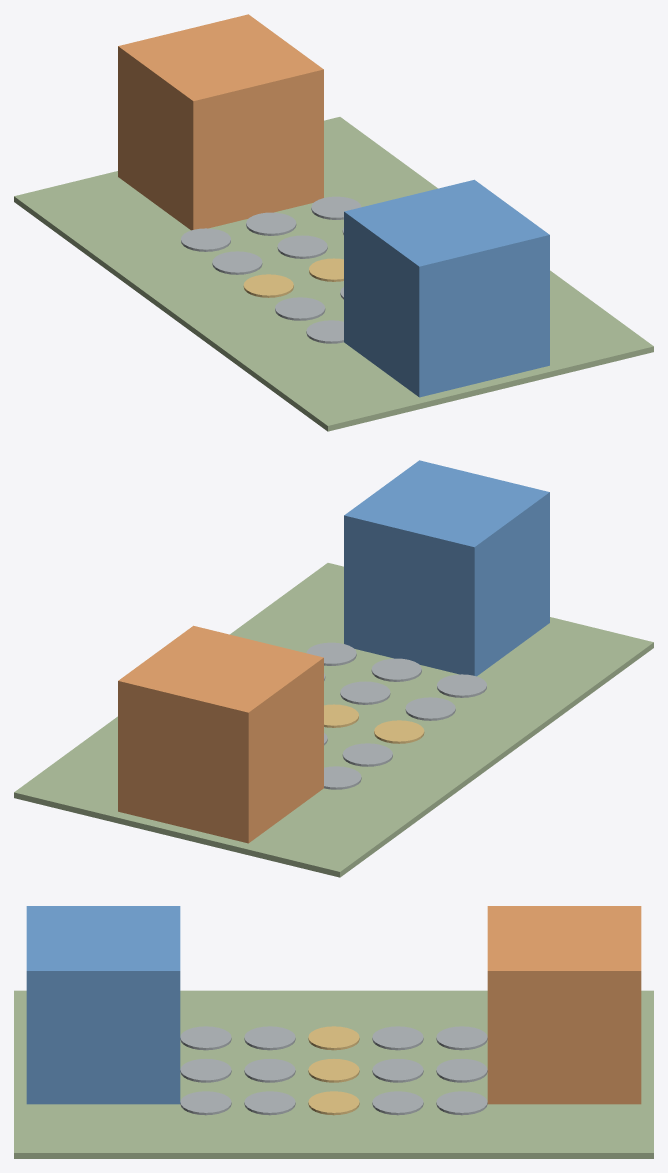
Rendered from field-blockout.glb.
3 views of the same model, one above another, from view 1: azimuth 30°, elevation 25°; view 2: azimuth 150°, elevation 25°; view 3: azimuth 270°, elevation 25° (orthographic).
Parts seen in each view (by area): view 1: field-base, castle-footprint-1, castle-footprint-2, lane-1-step-3, lane-1-step-2, lane-1-step-5, lane-1-step-4, lane-2-step-4, lane-2-step-5, lane-3-step-5, lane-1-step-1, lane-2-step-3; view 2: field-base, castle-footprint-2, castle-footprint-1, lane-1-step-3, lane-1-step-1, lane-1-step-4, lane-1-step-2, lane-2-step-1, lane-2-step-2, lane-3-step-1, lane-1-step-5, lane-2-step-3; view 3: field-base, castle-footprint-1, castle-footprint-2, lane-1-step-1, lane-1-step-2, lane-1-step-3, lane-1-step-4, lane-1-step-5, lane-3-step-1, lane-3-step-2, lane-3-step-3, lane-3-step-4 (+6 smaller).
Part boxes in pixels (x1,y1,x2,y2): field-base: (14,117,653,431); castle-footprint-1: (344,179,549,397); castle-footprint-2: (118,14,323,230); lane-1-step-3: (243,274,293,297); lane-1-step-2: (275,297,325,320); lane-1-step-5: (181,228,230,251); lane-1-step-4: (212,251,262,274); lane-2-step-4: (277,235,327,258); lane-2-step-5: (246,212,296,235); lane-3-step-5: (311,196,361,219); lane-1-step-1: (306,320,343,343); lane-2-step-3: (309,258,343,281); field-base: (14,563,653,877); castle-footprint-2: (118,625,323,843); castle-footprint-1: (344,460,549,676); lane-1-step-3: (374,720,424,743); lane-1-step-1: (437,674,486,697); lane-1-step-4: (342,743,392,766); lane-1-step-2: (405,697,455,720); lane-2-step-1: (371,658,421,681); lane-2-step-2: (340,681,390,704); lane-3-step-1: (306,642,356,665); lane-1-step-5: (324,766,361,789); lane-2-step-3: (324,704,358,727); field-base: (14,990,653,1158); castle-footprint-1: (26,906,180,1104); castle-footprint-2: (487,906,641,1104); lane-1-step-1: (180,1026,231,1050); lane-1-step-2: (244,1026,295,1050); lane-1-step-3: (308,1026,359,1050); lane-1-step-4: (372,1026,423,1050); lane-1-step-5: (436,1026,487,1050); lane-3-step-1: (180,1091,231,1115); lane-3-step-2: (244,1091,295,1115); lane-3-step-3: (308,1091,359,1115); lane-3-step-4: (372,1091,423,1115).
Size of the model in its own units: 12 by 4.8 by 20.
